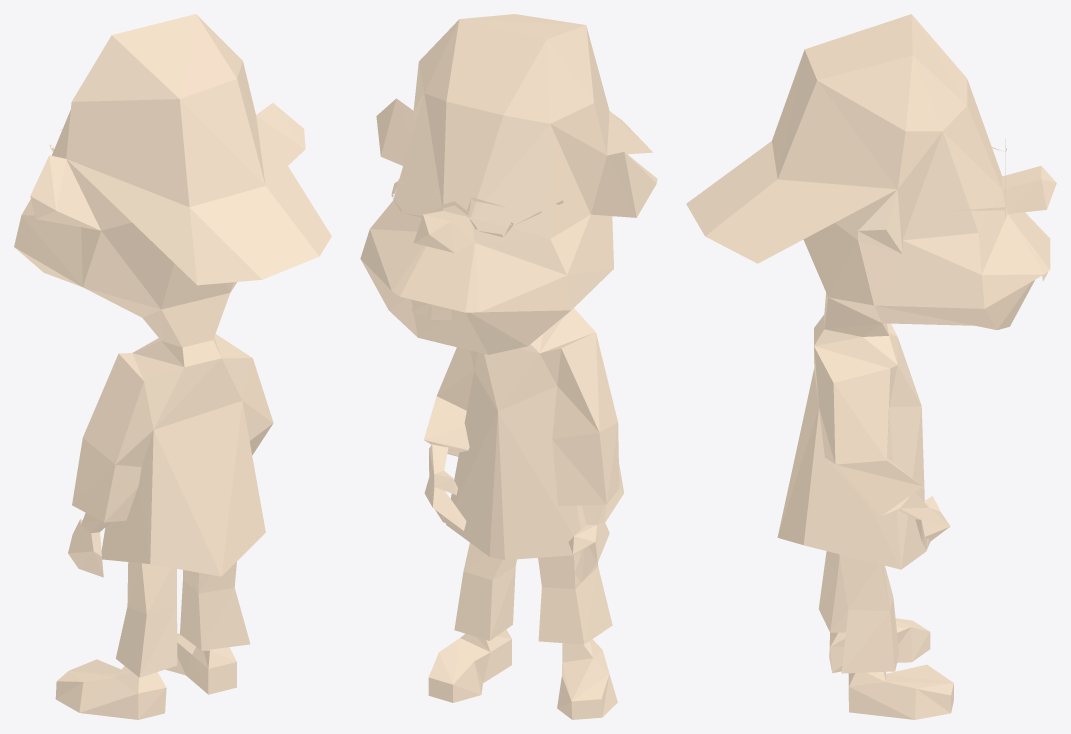
File: bennystop.glb
3 renders of one model, left to right at view 1: azimuth 30°, elevation 25°; view 2: azimuth 150°, elevation 25°; view 3: azimuth 270°, elevation 25°, orthographic.
Parts seen in each view (by area): view 1: bennystop; view 2: bennystop; view 3: bennystop.
Boxes of the visible parts, x1=… form: bennystop: x1=14, y1=14, x2=331, y2=719; bennystop: x1=360, y1=14, x2=657, y2=719; bennystop: x1=686, y1=14, x2=1056, y2=719.
Bounding box in the file's own units: 92.87 × 211 × 109.
